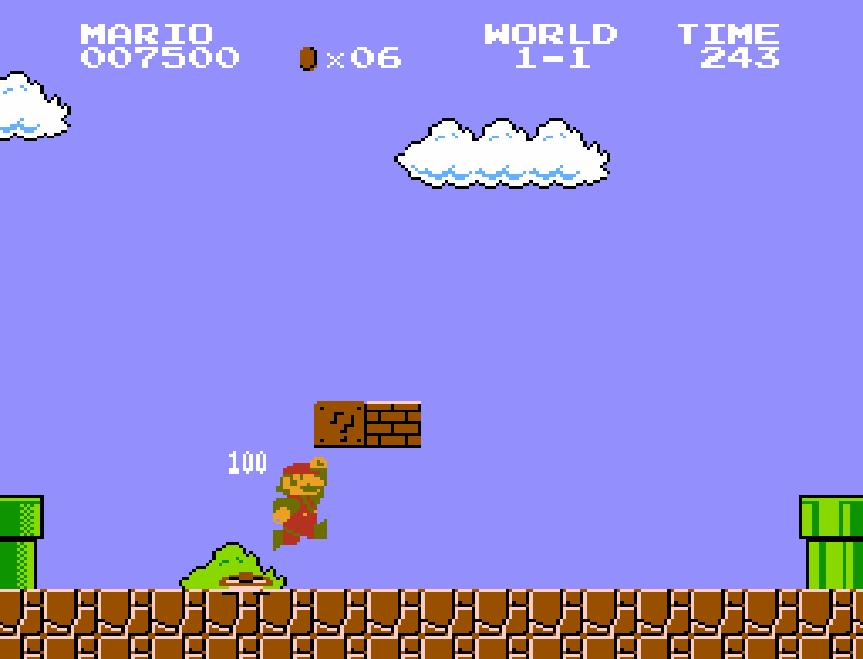big_mario: (270, 455, 328, 553)
